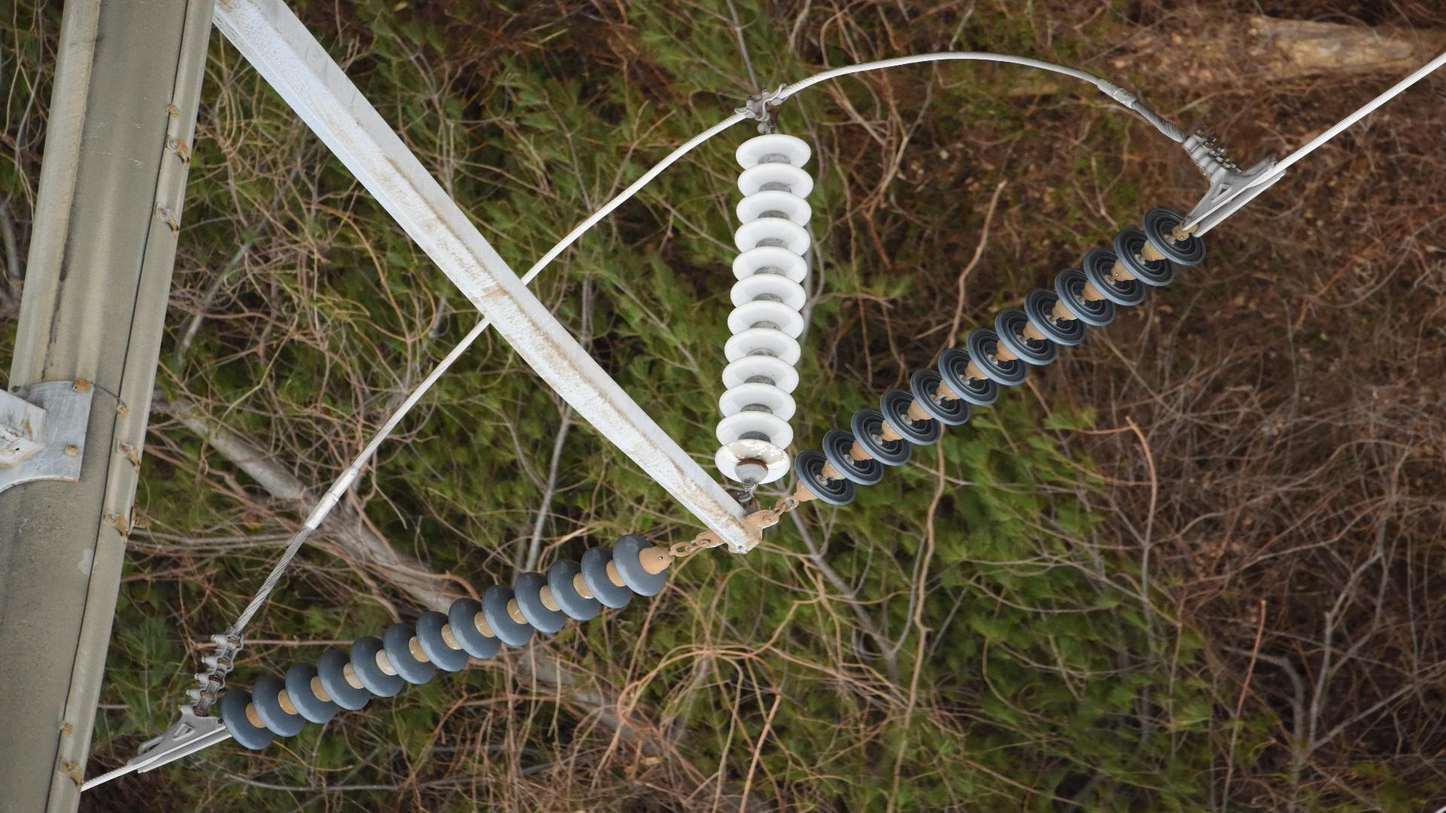insulator: (792, 204, 1211, 507), (212, 527, 673, 760), (707, 129, 820, 486)
insulator_flashover: (723, 437, 788, 463)
